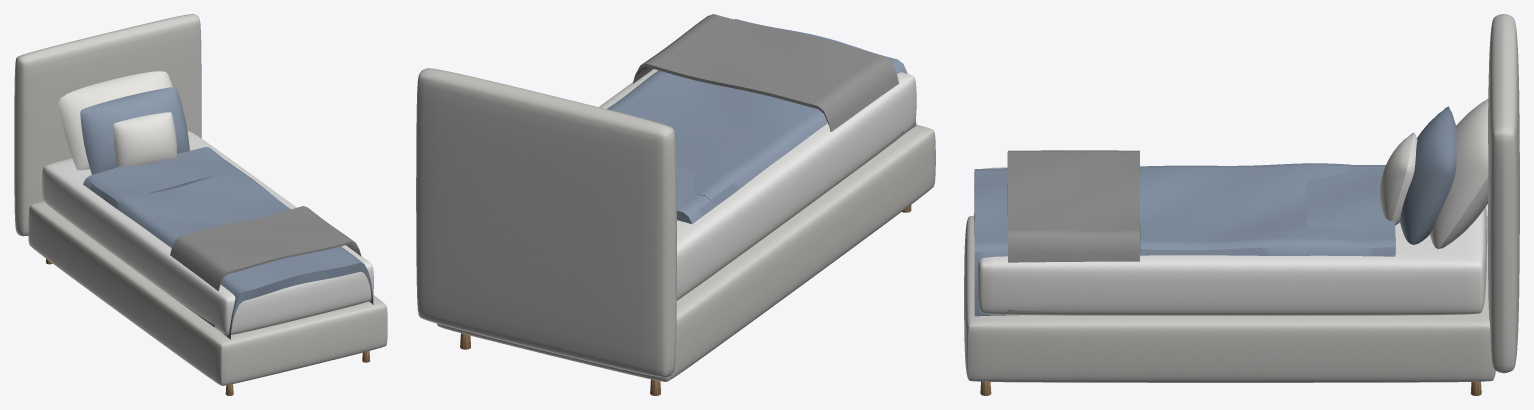
Rendered from cama-1p-arco-lino-v2.gltf.
3 views of the same model, side by side, from view 1: azimuth 30°, elevation 25°; view 2: azimuth 150°, elevation 25°; view 3: azimuth 270°, elevation 25° (orthographic). The views are drawn at different scales.
Parts seen in each view (by area): view 1: cama-1p-arco-lino__f_lino_perla, cama-1p-arco-lino__f_lino_azul, cama-1p-arco-lino__f_colchon, cama-1p-arco-lino__f_tejido_gris, cama-1p-arco-lino__f_lino_blanco; view 2: cama-1p-arco-lino__f_lino_perla, cama-1p-arco-lino__f_lino_azul, cama-1p-arco-lino__f_colchon, cama-1p-arco-lino__f_tejido_gris; view 3: cama-1p-arco-lino__f_lino_perla, cama-1p-arco-lino__f_colchon, cama-1p-arco-lino__f_lino_azul, cama-1p-arco-lino__f_tejido_gris, cama-1p-arco-lino__f_lino_blanco.
Part boxes in pixels (x1,y1,x2,y2): cama-1p-arco-lino__f_lino_perla: (14, 14, 387, 385); cama-1p-arco-lino__f_lino_azul: (80, 87, 373, 339); cama-1p-arco-lino__f_colchon: (42, 131, 373, 335); cama-1p-arco-lino__f_tejido_gris: (170, 206, 361, 327); cama-1p-arco-lino__f_lino_blanco: (58, 71, 176, 170); cama-1p-arco-lino__f_lino_perla: (416, 68, 935, 381); cama-1p-arco-lino__f_lino_azul: (607, 19, 916, 223); cama-1p-arco-lino__f_colchon: (599, 69, 916, 300); cama-1p-arco-lino__f_tejido_gris: (633, 14, 904, 178); cama-1p-arco-lino__f_lino_perla: (964, 14, 1519, 382); cama-1p-arco-lino__f_colchon: (977, 167, 1486, 315); cama-1p-arco-lino__f_lino_azul: (974, 106, 1456, 316); cama-1p-arco-lino__f_tejido_gris: (1007, 150, 1140, 312); cama-1p-arco-lino__f_lino_blanco: (1380, 99, 1488, 249).
Bounding box in the file's own units: 1.06 × 1.12 × 2.02.
6 materials, 6 textured.
